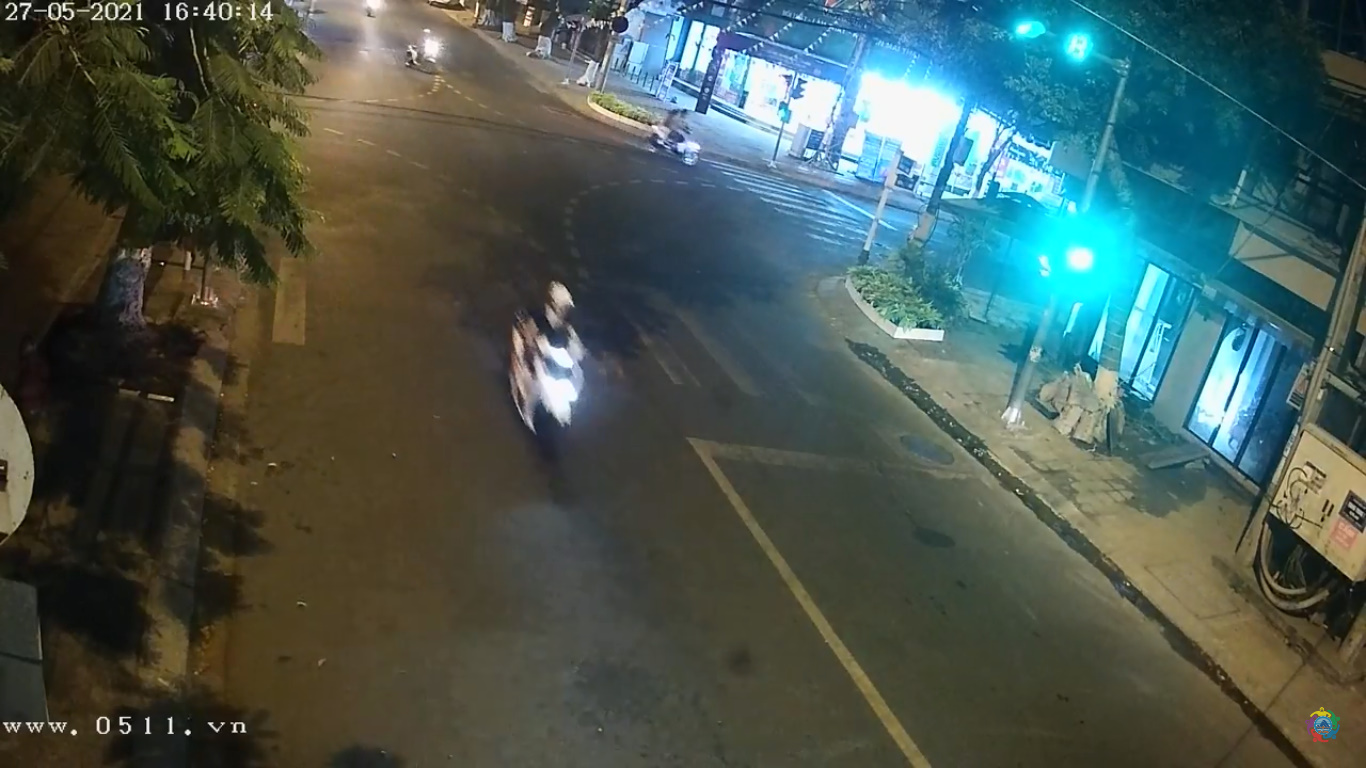motorbike: (484, 270, 616, 477)
